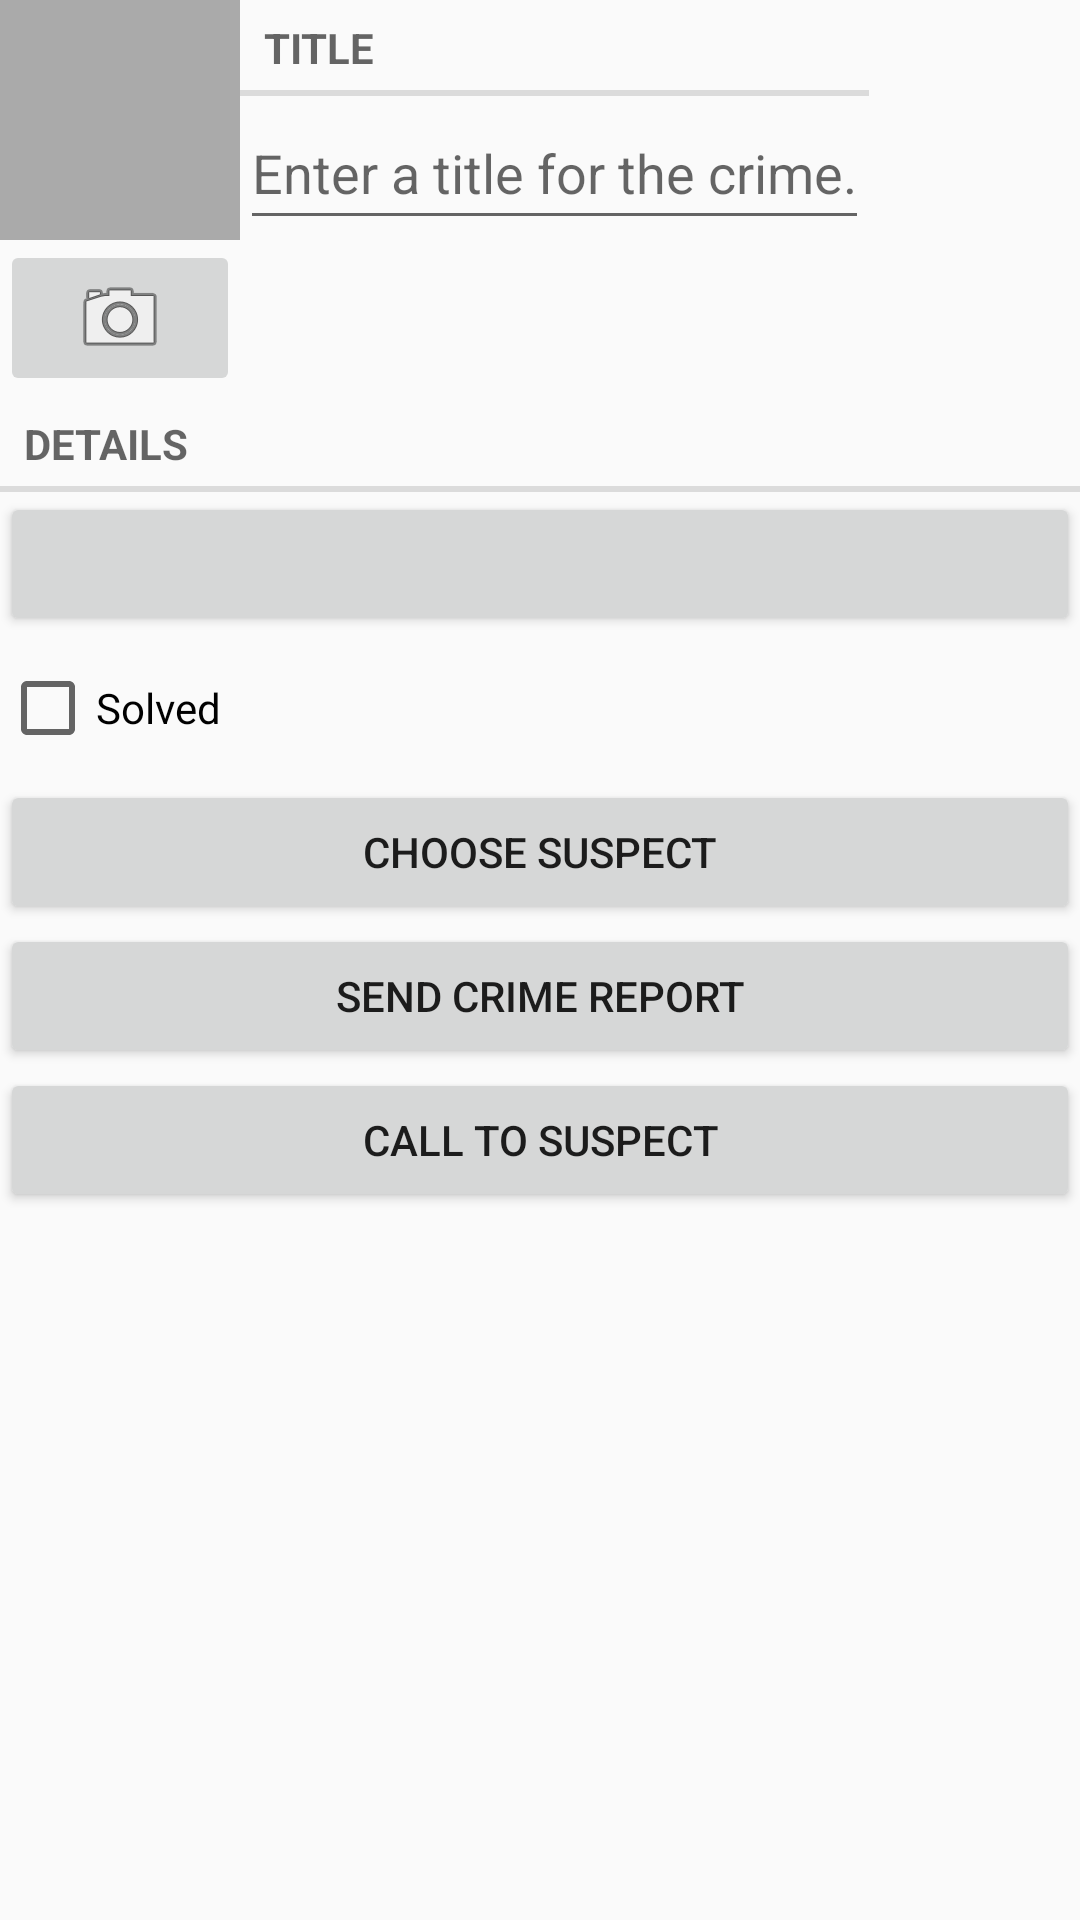

Screen size 1080 x 1920. Icon name, then its center in pixels as (x,y):
Take photo of crime scene: (120,318)
